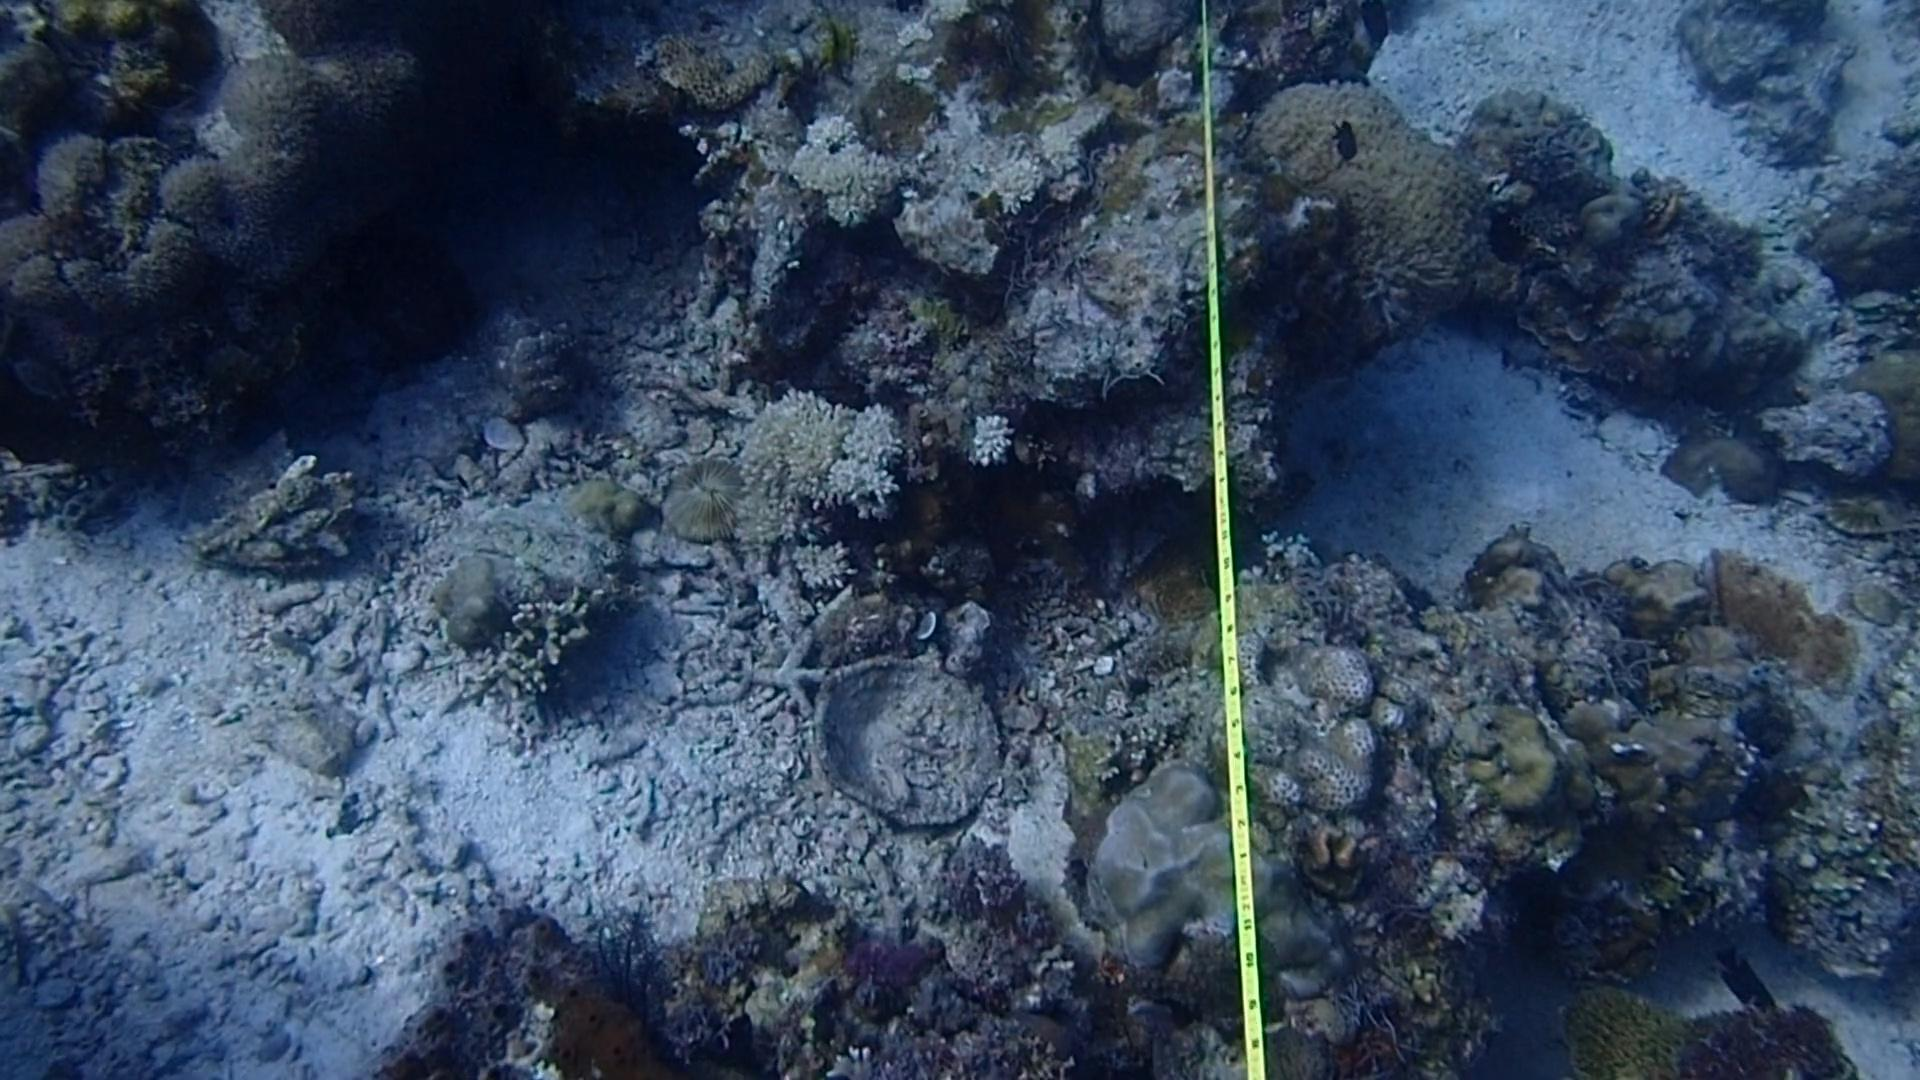Dark Fish: (1701, 928, 1784, 1021), (1476, 206, 1538, 276), (1328, 111, 1369, 167)
